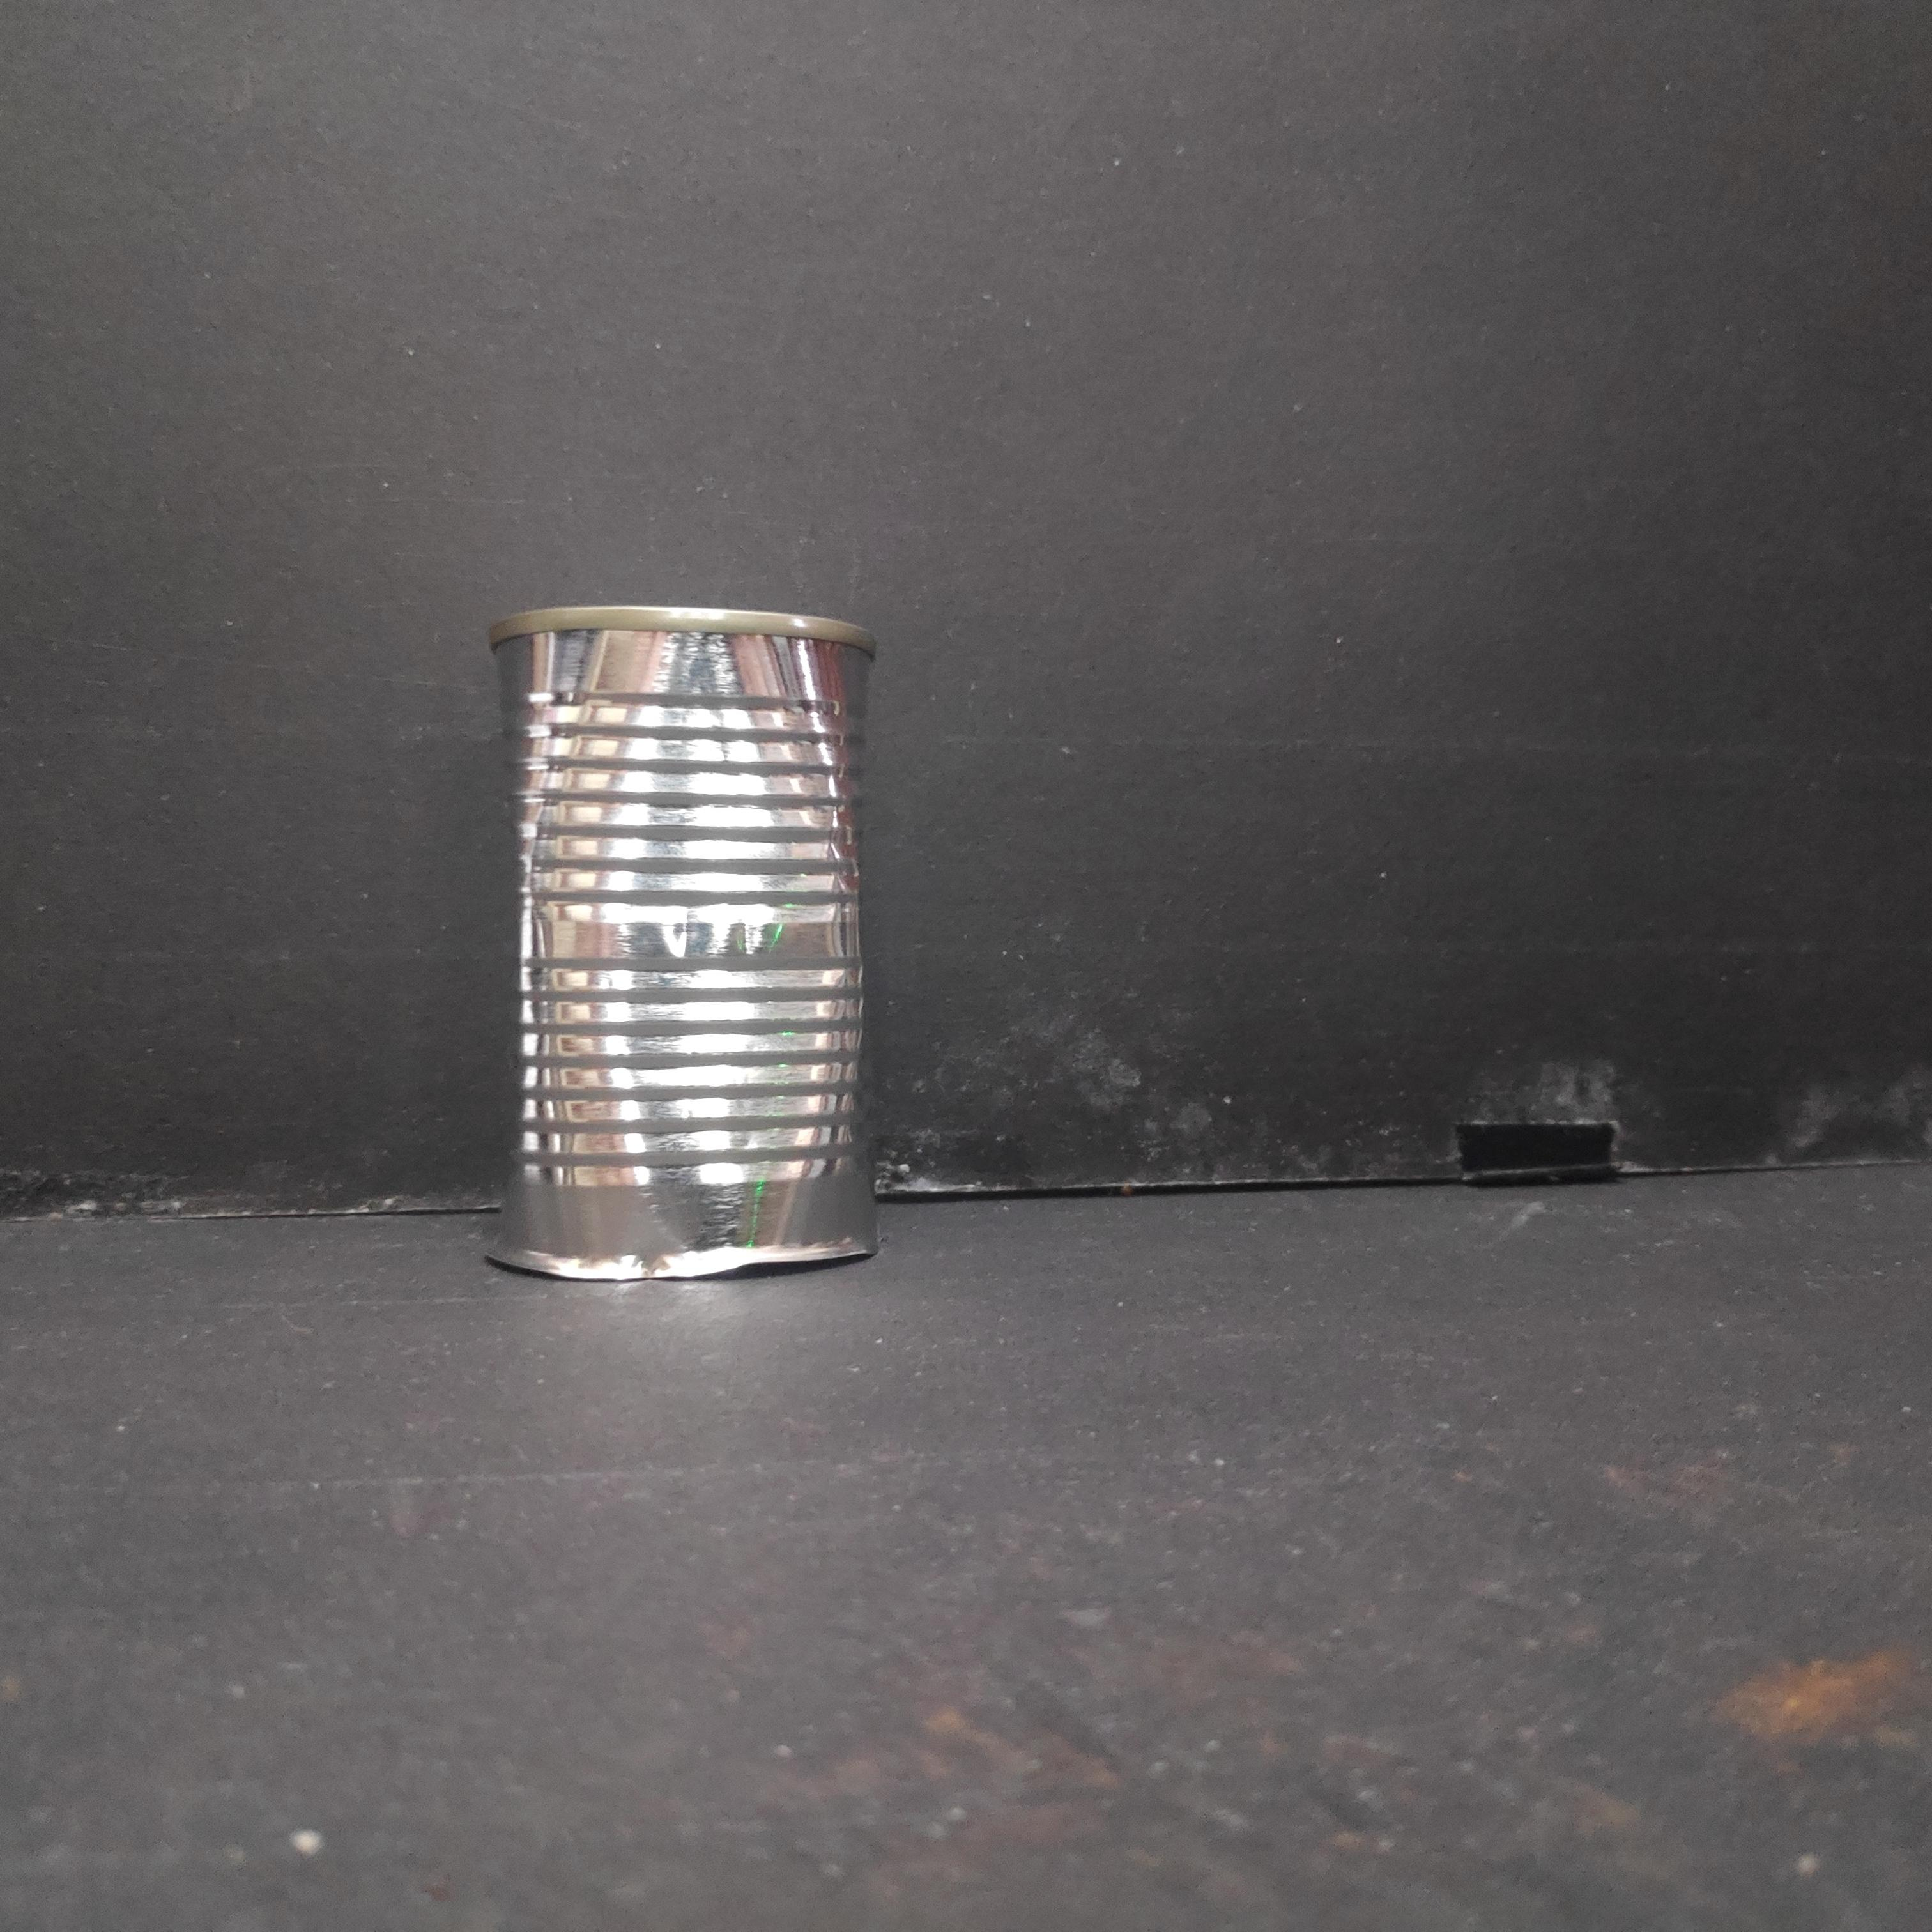Minor Defect: (477, 595, 887, 1298)
